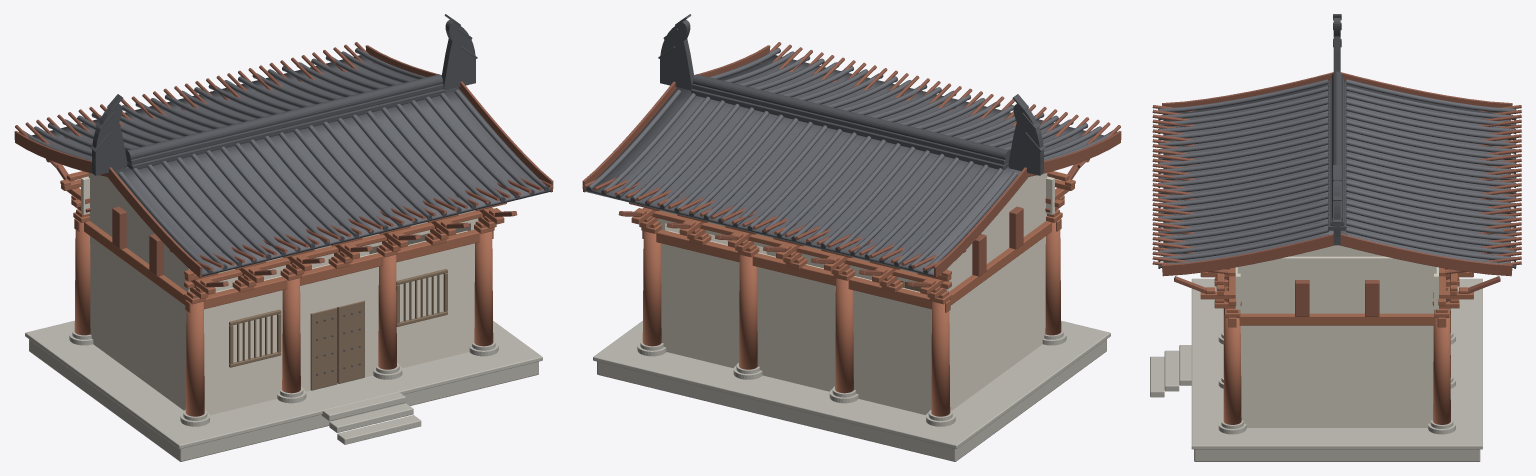
File: tang_hall_large.fbx
The picture shows the model from 3 angles, left to right: view 1: azimuth 30°, elevation 25°; view 2: azimuth 150°, elevation 25°; view 3: azimuth 270°, elevation 25°; orthographic projection. The views are drawn at different scales.
Parts seen in each view (by area): view 1: roof_deck_f, plinth_edge, wall_gable, wall_front.001, wall_front, plinth, roof_deck_b, ridge_cap, lintel_f, door_leaf.001, door_leaf, column.003 (+40 smaller); view 2: roof_deck_b, wall_back, plinth_edge, wall_gable, plinth, roof_deck_f, ridge_cap, lintel_b, column.004, column.002, column.006, column (+33 smaller); view 3: wall_gable.001, plinth_edge, roof_deck_f, roof_deck_b, plinth, lintel_r, column, column.007, ridge_cap, ridge0, tile_run.021, tile_run.024 (+53 smaller).
Boxes of the visible parts, bbox=[...] form: roof_deck_f: bbox=[115, 87, 550, 276]; plinth_edge: bbox=[25, 320, 542, 448]; wall_gable: bbox=[88, 173, 186, 410]; wall_front.001: bbox=[364, 230, 474, 377]; wall_front: bbox=[204, 276, 310, 414]; plinth: bbox=[29, 339, 538, 461]; roof_deck_b: bbox=[31, 55, 457, 171]; ridge_cap: bbox=[125, 74, 443, 160]; lintel_f: bbox=[185, 229, 493, 312]; door_leaf.001: bbox=[337, 301, 364, 383]; door_leaf: bbox=[310, 307, 337, 390]; column.003: bbox=[282, 278, 300, 393]; roof_deck_b: bbox=[585, 87, 1020, 276]; wall_back: bbox=[661, 230, 931, 414]; plinth_edge: bbox=[593, 320, 1110, 448]; wall_gable: bbox=[949, 173, 1047, 410]; plinth: bbox=[597, 339, 1106, 461]; roof_deck_f: bbox=[678, 55, 1104, 171]; ridge_cap: bbox=[692, 74, 1010, 161]; lintel_b: bbox=[642, 229, 950, 312]; column.004: bbox=[835, 278, 853, 393]; column.002: bbox=[931, 301, 950, 416]; column.006: bbox=[739, 254, 757, 369]; column: bbox=[642, 231, 661, 346]; wall_gable.001: bbox=[1237, 256, 1436, 427]; plinth_edge: bbox=[1191, 278, 1482, 449]; roof_deck_f: bbox=[1163, 81, 1333, 262]; roof_deck_b: bbox=[1340, 81, 1510, 262]; plinth: bbox=[1194, 449, 1480, 461]; lintel_r: bbox=[1239, 313, 1434, 325]; column: bbox=[1433, 314, 1450, 424]; column.007: bbox=[1223, 314, 1241, 424]; ridge_cap: bbox=[1331, 71, 1342, 223]; ridge0: bbox=[1328, 82, 1346, 230]; tile_run.021: bbox=[1159, 220, 1328, 253]; tile_run.024: bbox=[1345, 79, 1514, 112].
Bounding box in the file's own units: 11.96 × 9.18 × 10.65.
